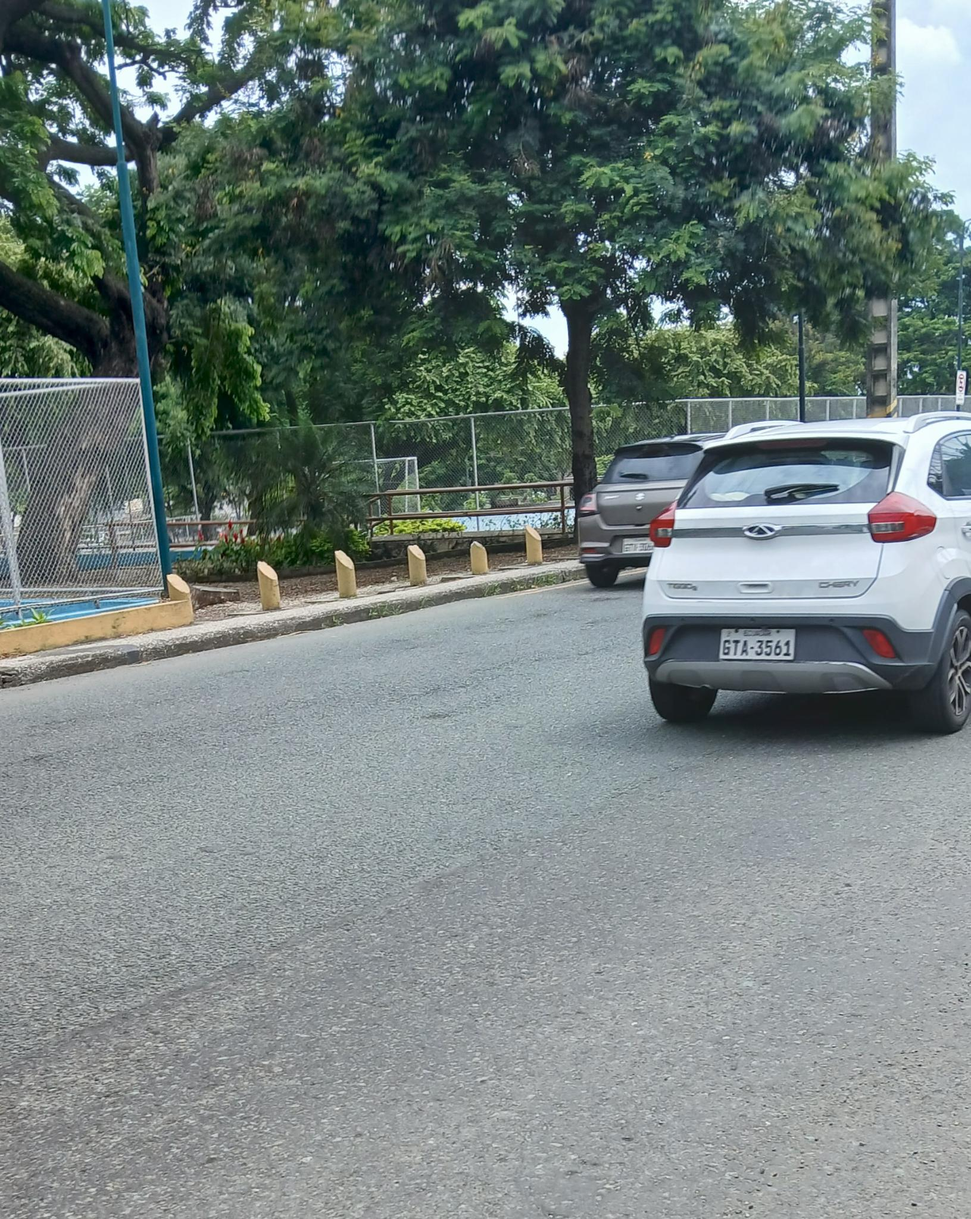license_plate: (718, 629, 797, 661), (620, 538, 655, 553)
